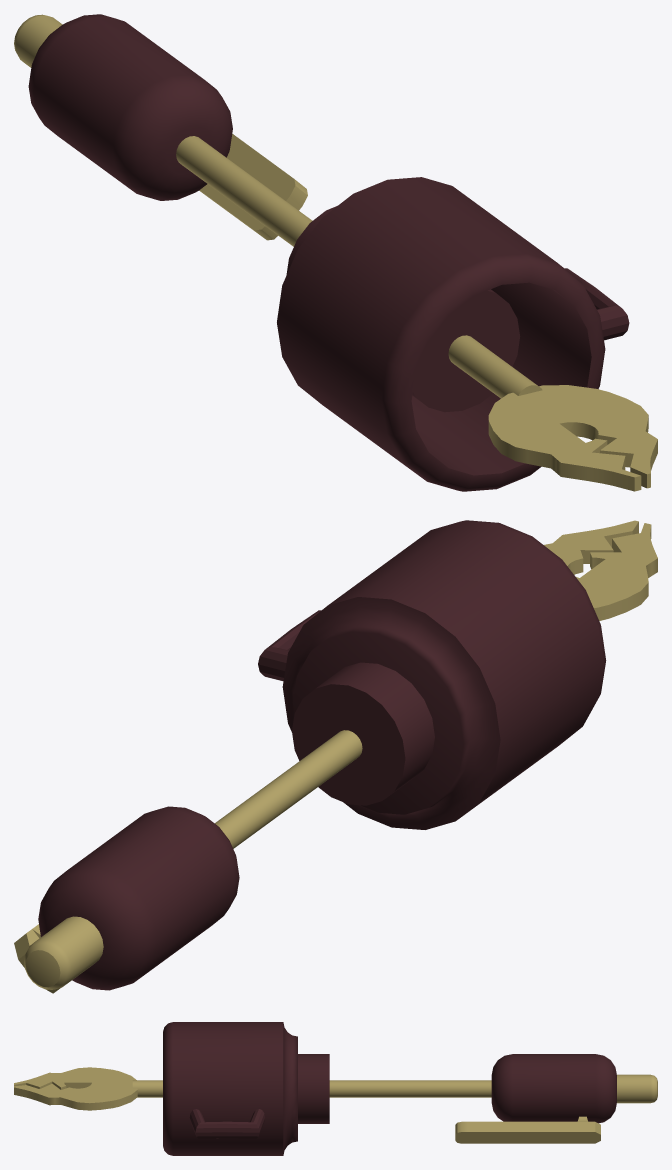
The model's file is AmorayUV.fbx.
3 views of the same model, one above another, from view 1: azimuth 30°, elevation 25°; view 2: azimuth 150°, elevation 25°; view 3: azimuth 270°, elevation 25° (orthographic). The views are drawn at different scales.
Visible parts, largest first — view 1: big_base, back_base, pen_tip, main_stick, small_base, back_handle, back_stick, front_handle; view 2: big_base, back_base, small_base, pen_tip, main_stick, back_stick, front_handle; view 3: big_base, back_base, pen_tip, main_stick, back_handle, small_base, front_handle, back_stick.
Boxes of the visible parts, <box> form: big_base: <box>277,177,605,491</box>; back_base: <box>28,14,232,200</box>; pen_tip: <box>488,385,657,491</box>; main_stick: <box>176,136,542,398</box>; small_base: <box>286,206,520,412</box>; back_handle: <box>199,134,307,240</box>; back_stick: <box>14,14,62,67</box>; front_handle: <box>565,268,629,340</box>; big_base: <box>282,520,606,829</box>; back_base: <box>38,806,239,990</box>; small_base: <box>292,662,434,805</box>; pen_tip: <box>544,520,657,620</box>; main_stick: <box>215,730,362,848</box>; back_stick: <box>24,916,103,989</box>; front_handle: <box>258,610,321,681</box>; big_base: <box>163,1022,297,1155</box>; back_base: <box>491,1054,616,1123</box>; pen_tip: <box>14,1067,137,1110</box>; main_stick: <box>132,1080,491,1097</box>; back_handle: <box>455,1116,600,1143</box>; small_base: <box>298,1054,329,1123</box>; front_handle: <box>189,1109,264,1138</box>; back_stick: <box>617,1074,657,1103</box>.
Bounding box in the file's own units: 2.44 × 2 × 9.55.
